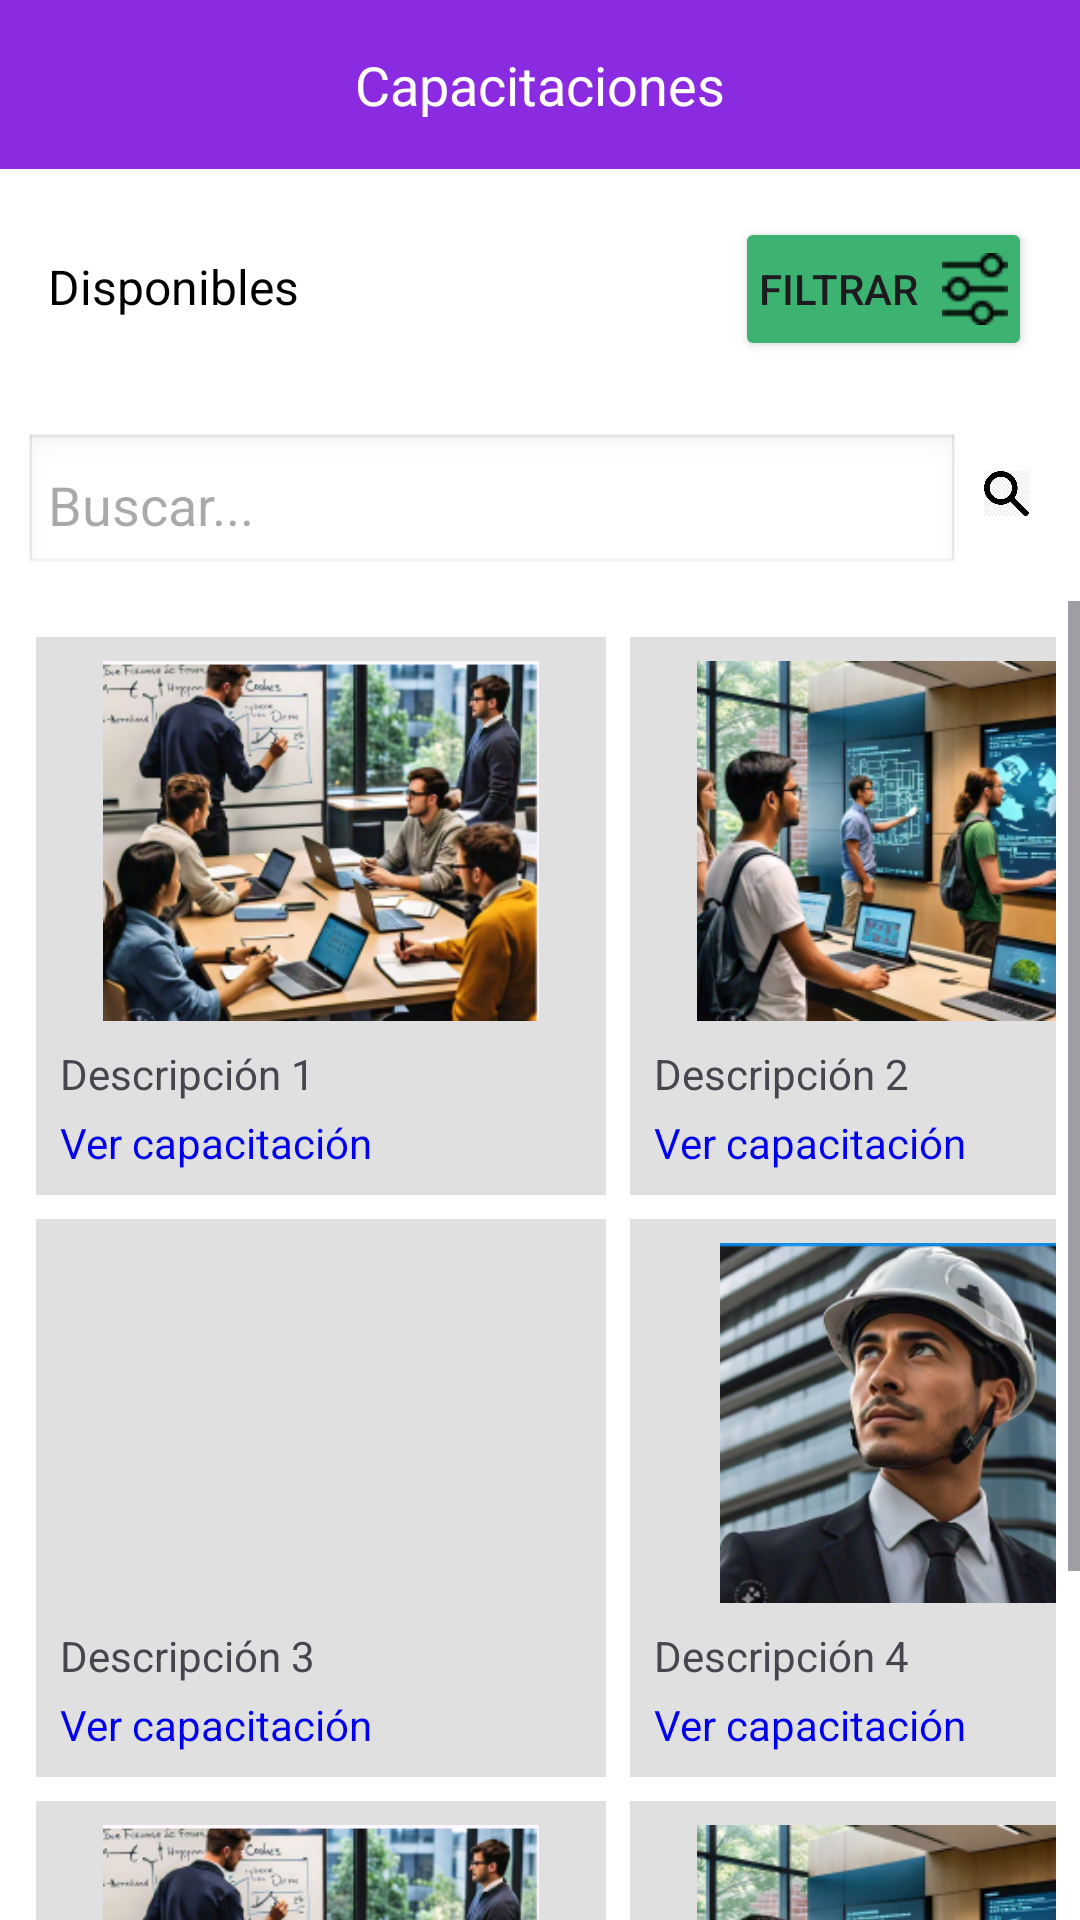

Where to tap for icons on this 1080w x 1920h app screen, as [x,y]:
search: [1006,493]
